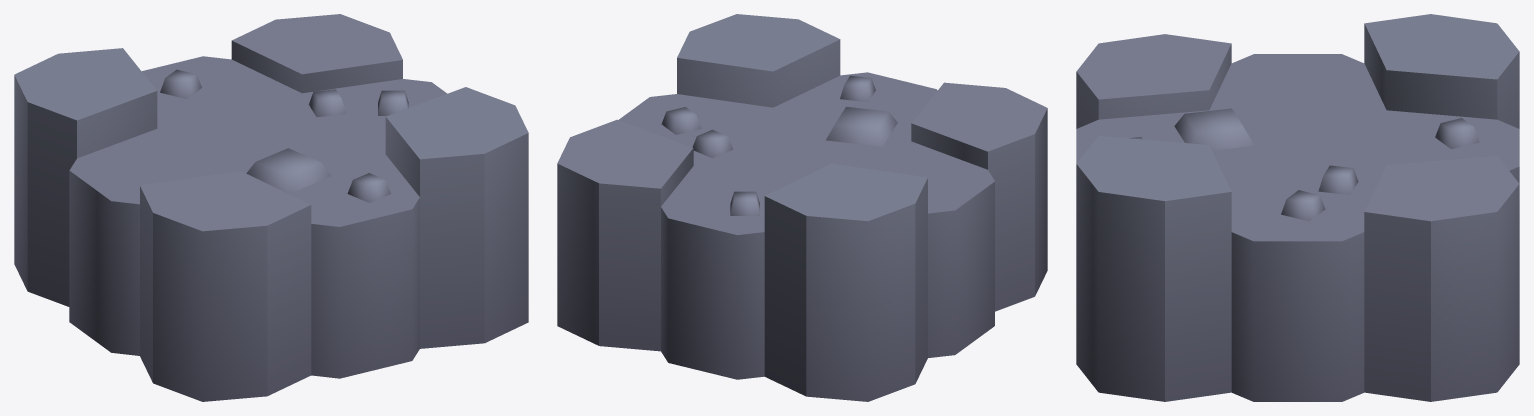
The model's file is rocks.obj.
3 renders of one model, left to right at view 1: azimuth 30°, elevation 25°; view 2: azimuth 150°, elevation 25°; view 3: azimuth 270°, elevation 25°, orthographic. The views are drawn at different scales.
Parts seen in each view (by area): view 1: rocks; view 2: rocks; view 3: rocks.
Boxes of the visible parts, bbox=[...] form: rocks: bbox=[14, 14, 528, 401]; rocks: bbox=[557, 14, 1047, 401]; rocks: bbox=[1076, 14, 1519, 401].
Bounding box in the file's own units: 1 × 0.5 × 1.
1 material, 1 textured.
